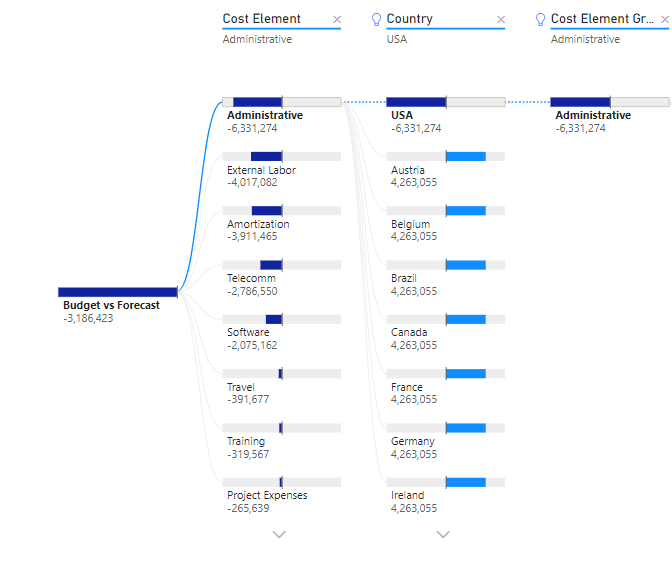

The dashboard page shown, as its layout file describes it:
{"tool":"powerbi","page":{"name":"Decomposition","canvas":[1280,720],"ordinal":2},"visuals":[{"type":"decompositionTreeVisual","fields":{"Analyze":["Budget.Budget vs Forecast"],"ExplainBy":["CostElements.Cost Element","Budget.Country","CostElements.Cost Element Group","Departments.IT Department"]},"box":[45.7,0,798.4,628.2],"z":0}]}

Visuals, with their boxes on the page's 1280x720 design canvas (x1, y1, x2, y2). These are canvas units, not pixel positions in the 672x562 screenshot, which may show the page scaled, cropped or inside an application window:
decompositionTreeVisual - Budget.Budget vs Forecast x CostElements.Cost Element: bbox=(46, 0, 844, 628)
